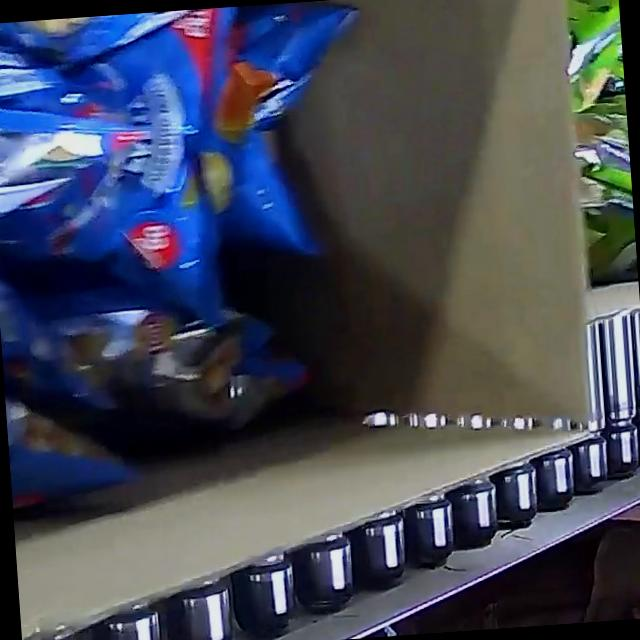paprika: (0, 0, 394, 526)
yogurt: (561, 0, 638, 281)
